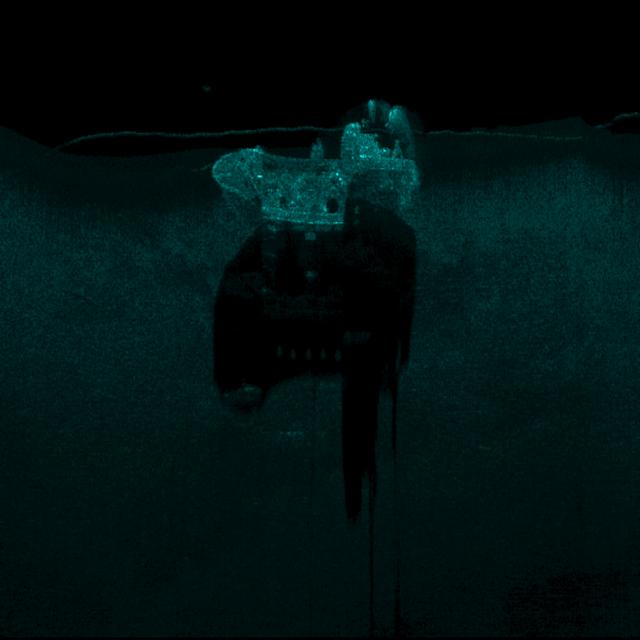ship: (206, 96, 428, 236)
